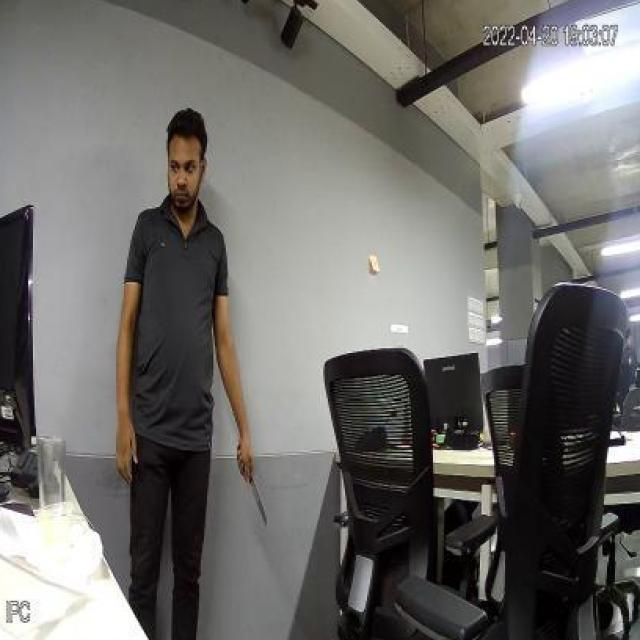Knife: (236, 439, 282, 533)
